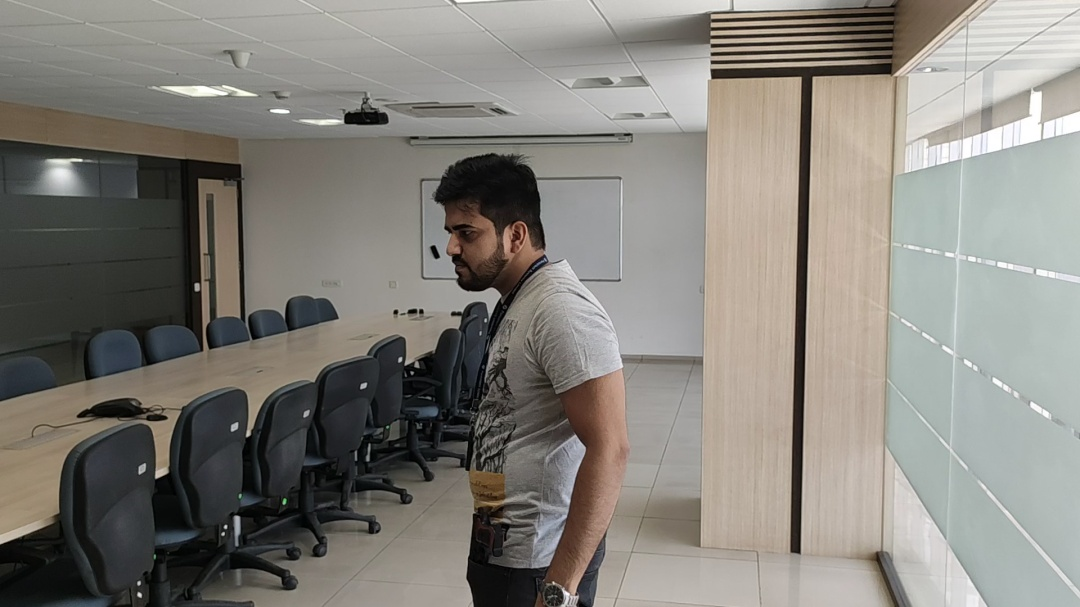gun: (469, 508, 510, 567)
